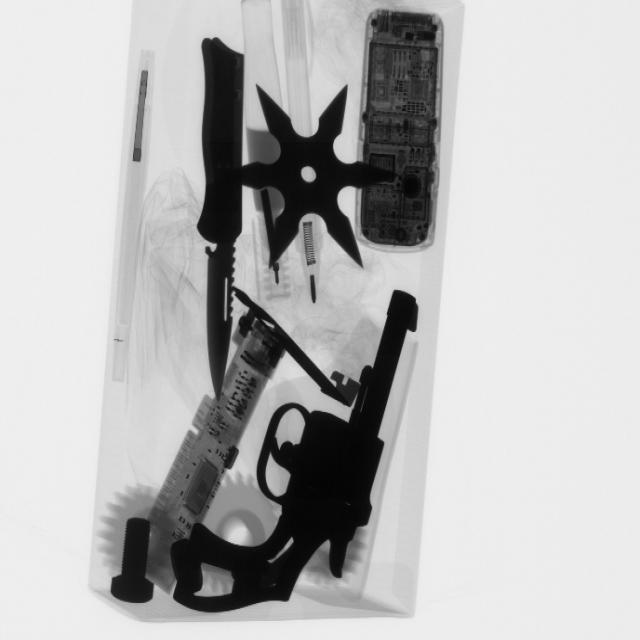GUN: (178, 288, 425, 617)
KNIFE: (184, 42, 259, 394)
SHURIKEN: (236, 71, 394, 277)
